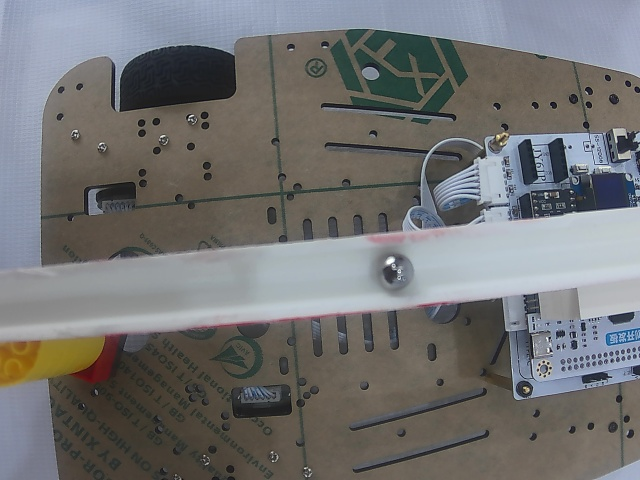steelball: (378, 252, 413, 291)
